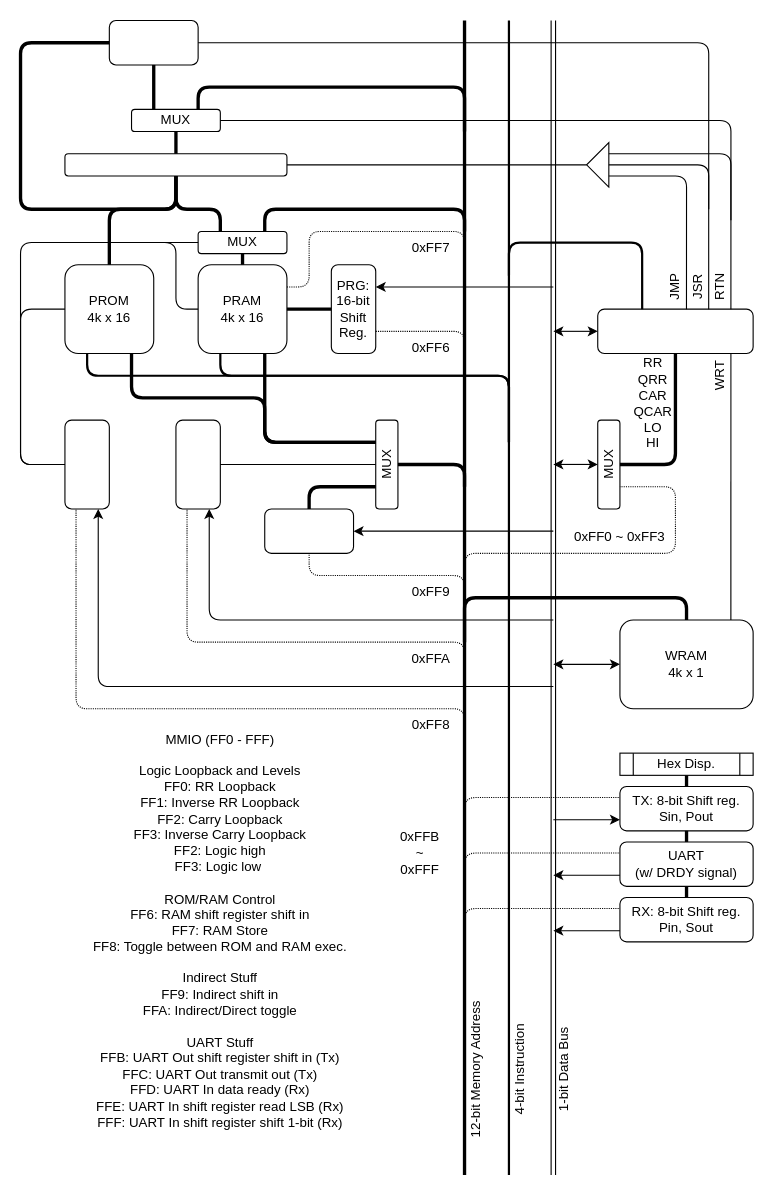
Some shapes in this 773 by 1197 pixel diagram are drawn without their labels. Here are the shapes that lost their labels. From the top down, the box of each, then its label:
(108, 19, 198, 65): RA: 12-bit Register
(64, 153, 287, 176): 12-bit Program Counter
(597, 308, 753, 354): MC/UE14500
(64, 419, 109, 509): BNK: 1-bit Reg.
(175, 419, 220, 509): DID: 1-bit Reg.
(264, 508, 354, 553): IND: 12-bit Shift Register
